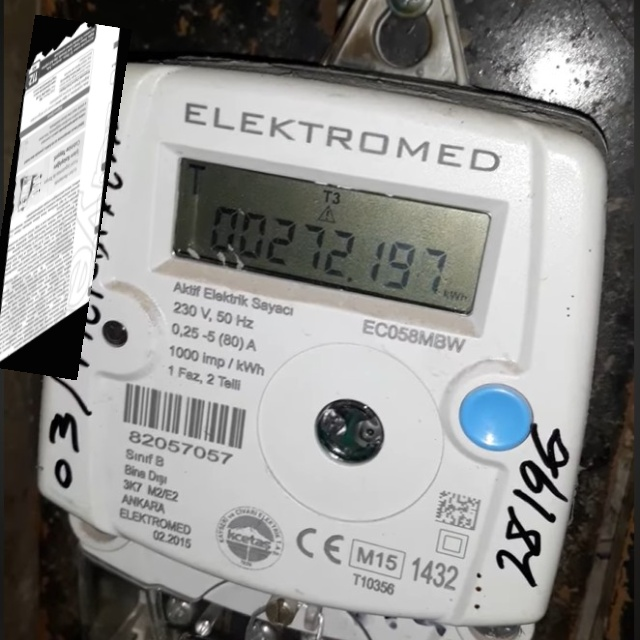electricity-bill: (0, 14, 132, 379)
